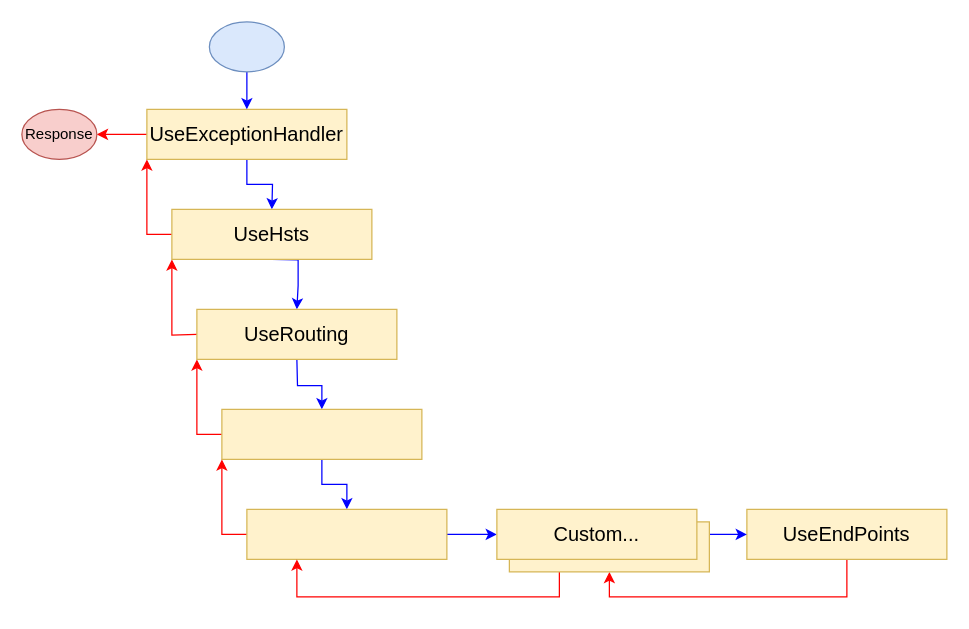
This 969x629 diagram has some shape labels left out. The shapes that lost their labels are listed below. From the top down, each one's centre as x and y in pixels, then its label:
(x=246, y=46): Request
(x=321, y=433): UseAuthentication
(x=346, y=533): UseAuthorization
